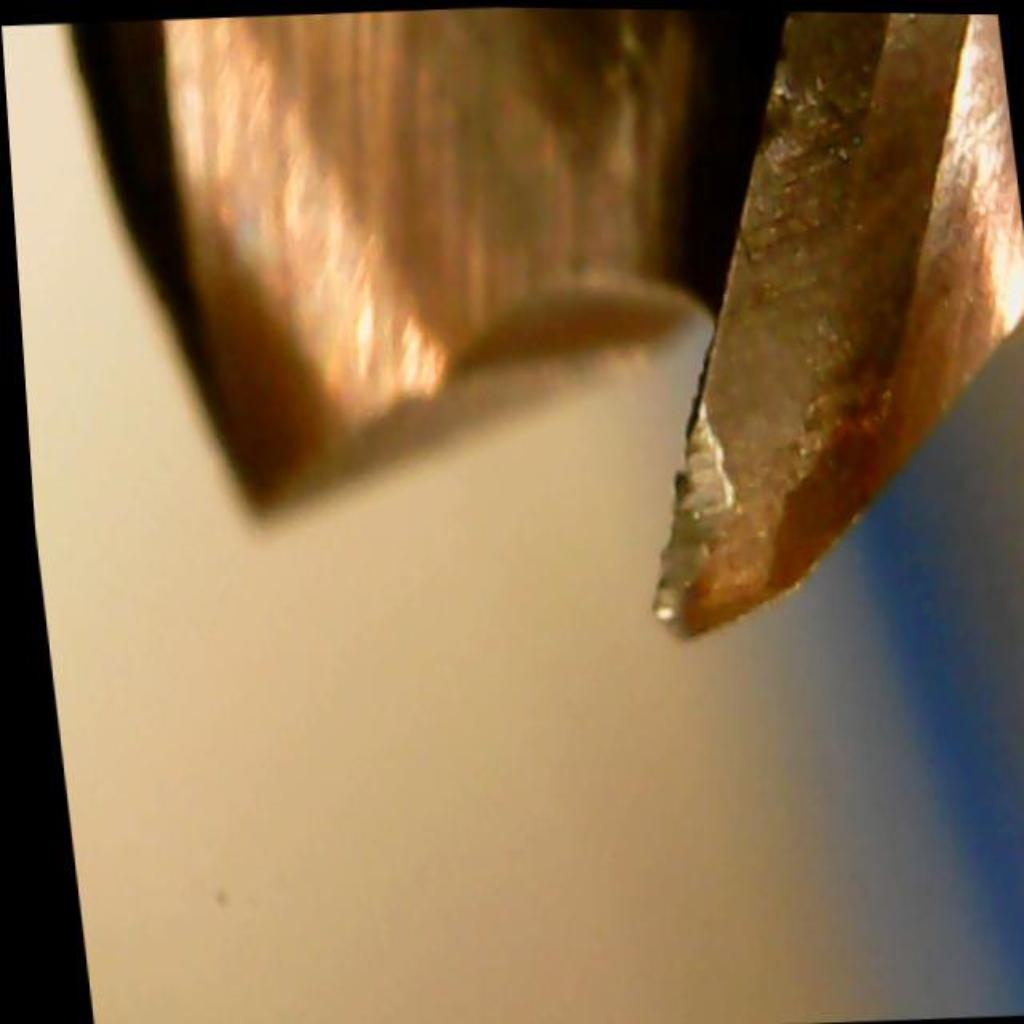Tool-wear-class-1: (575, 147, 877, 661)
